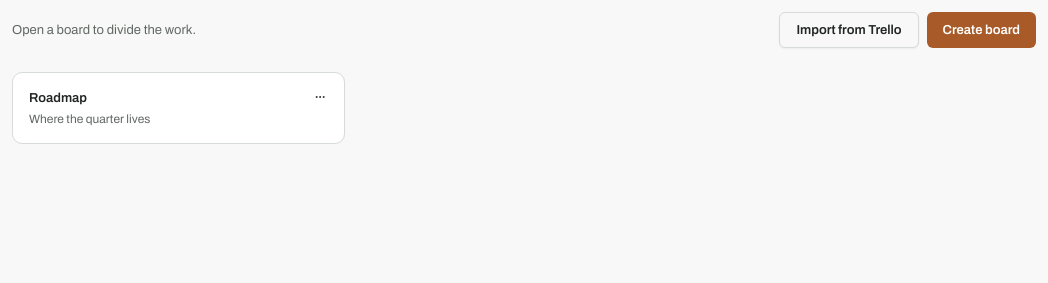
BoardList - inline rename › cancels on Escape without saving, restoring the original values
Press Enter in the button named "Board actions", box [308, 85, 332, 109]
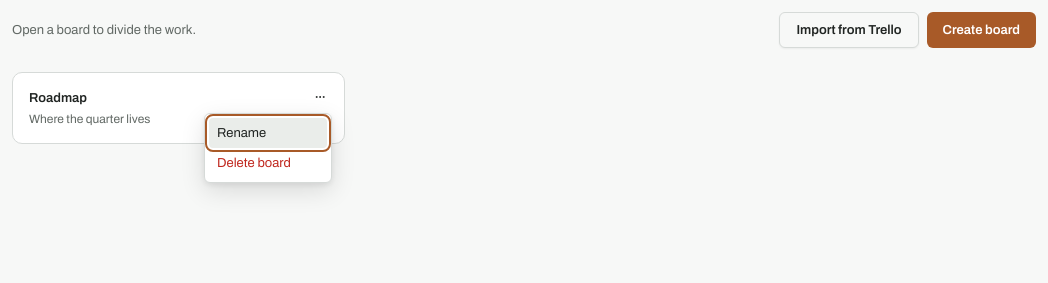
Click the menu item "Rename" at [268, 133], box [209, 118, 327, 148]
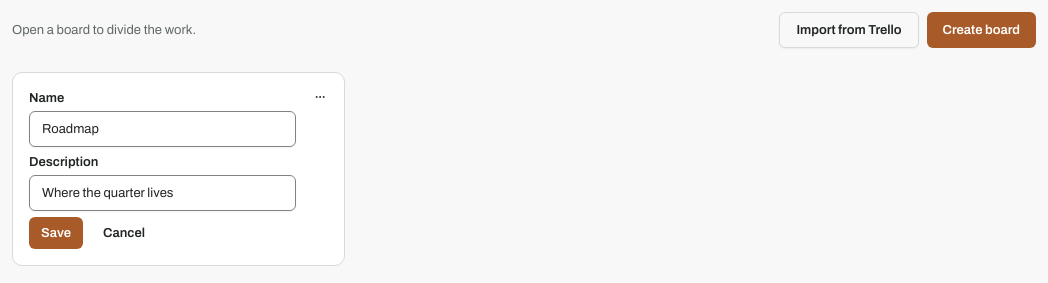
Replace the text in the field labelled "Name" with "Half-typed" at [163, 129], box [29, 111, 296, 147]
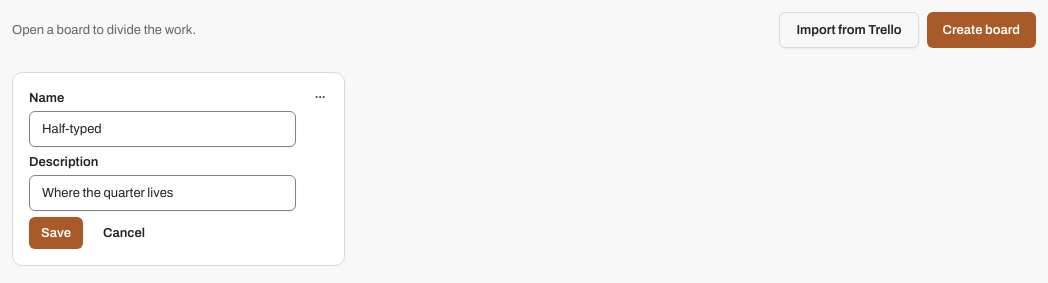
Press Escape in the field labelled "Name", box [29, 111, 296, 147]
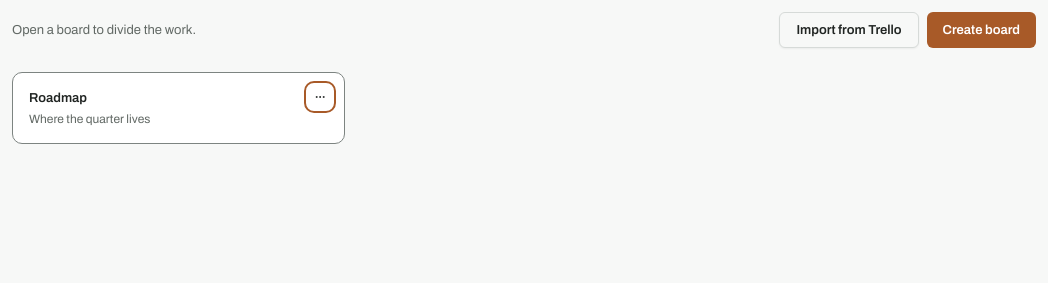
expect the text "Half-typed" is not shown: met
expect the text "Roadmap" is shown: met, box [29, 91, 87, 105]
